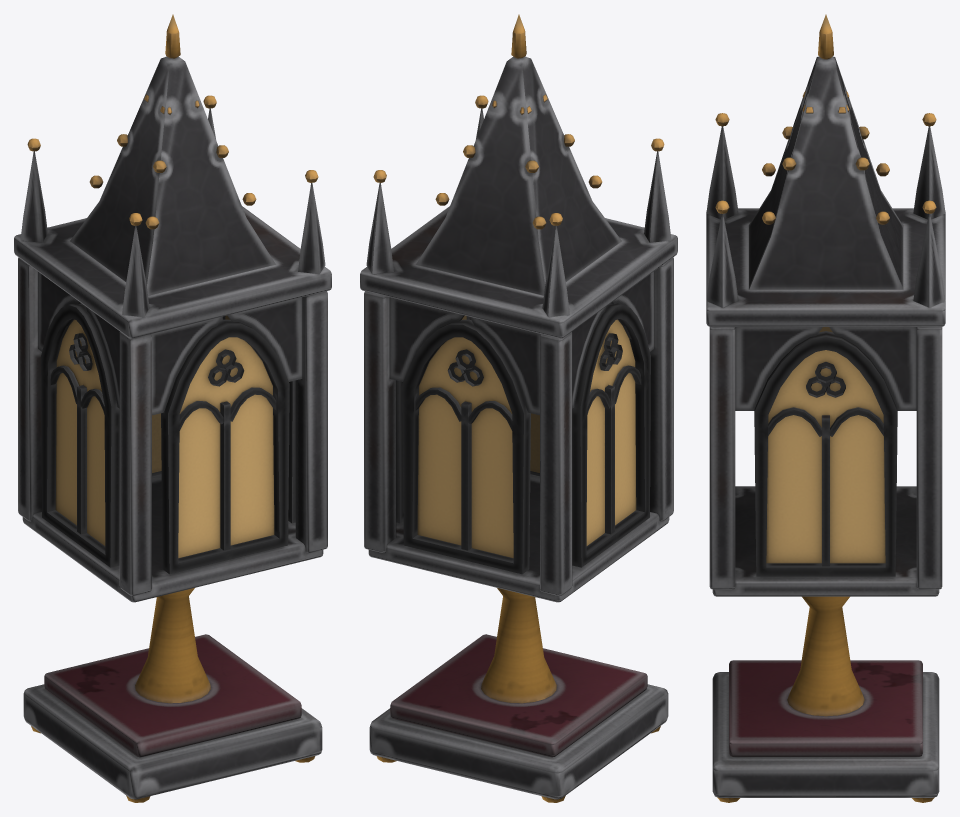
The model's file is DeskLampChapel.fbx.
3 views of the same model, side by side, from view 1: azimuth 30°, elevation 25°; view 2: azimuth 150°, elevation 25°; view 3: azimuth 270°, elevation 25° (orthographic).
Visible parts, largest first — view 1: DeskLampChapel_Main, DeskLampChapel_Glow; view 2: DeskLampChapel_Main, DeskLampChapel_Glow; view 3: DeskLampChapel_Main, DeskLampChapel_Glow.
Part boxes in pixels (<box>): DeskLampChapel_Main: <box>14,14,331,802</box>; DeskLampChapel_Glow: <box>55,315,274,558</box>; DeskLampChapel_Main: <box>360,14,677,802</box>; DeskLampChapel_Glow: <box>417,315,636,558</box>; DeskLampChapel_Main: <box>706,14,945,802</box>; DeskLampChapel_Glow: <box>766,327,885,563</box>.
Size of the model in its own units: 74 by 255 by 74.
